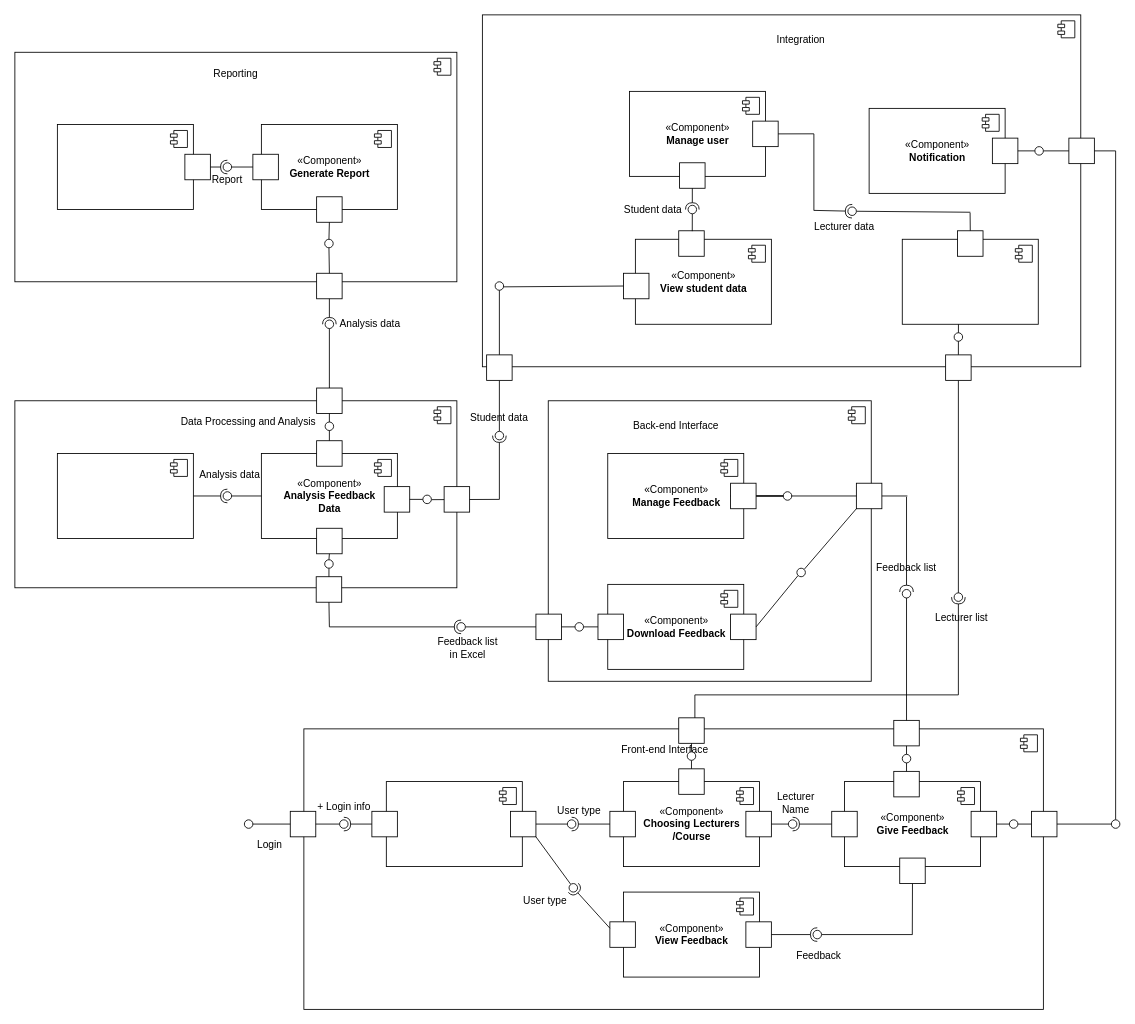
This 1135x1024 diagram has some shape labels left out. Each missing label, with the box of its shape:
«Component» Authentication: (385, 781, 522, 867)
«Component» Make Decision: (57, 453, 193, 538)
«Component» View lecturer data: (901, 238, 1038, 324)
«Component» View Report: (57, 124, 193, 210)
